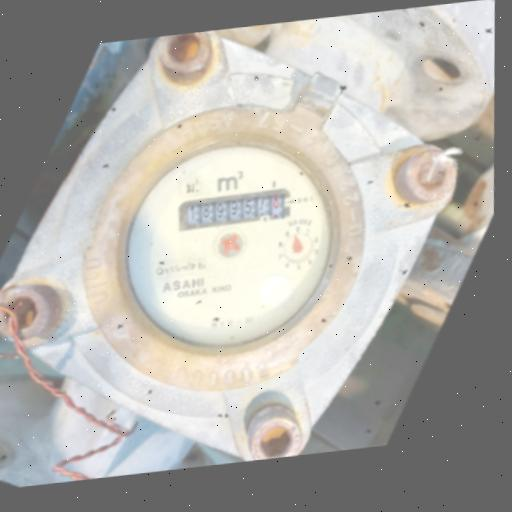1: (186, 203, 200, 224)
5: (243, 196, 256, 217)
7: (257, 194, 270, 216)
8: (270, 193, 283, 220), (201, 201, 213, 223)
9: (229, 197, 242, 219), (215, 200, 227, 221)
border_water_meter_number: (176, 186, 294, 231)
